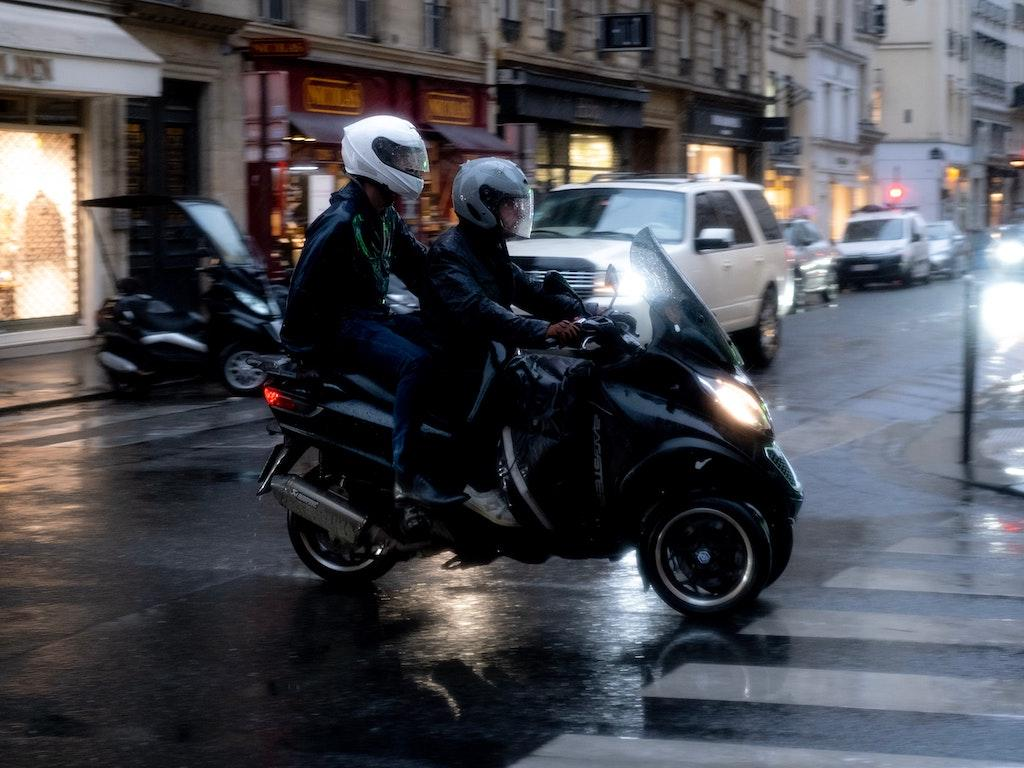helmet: (340, 114, 431, 202), (451, 155, 535, 243)
